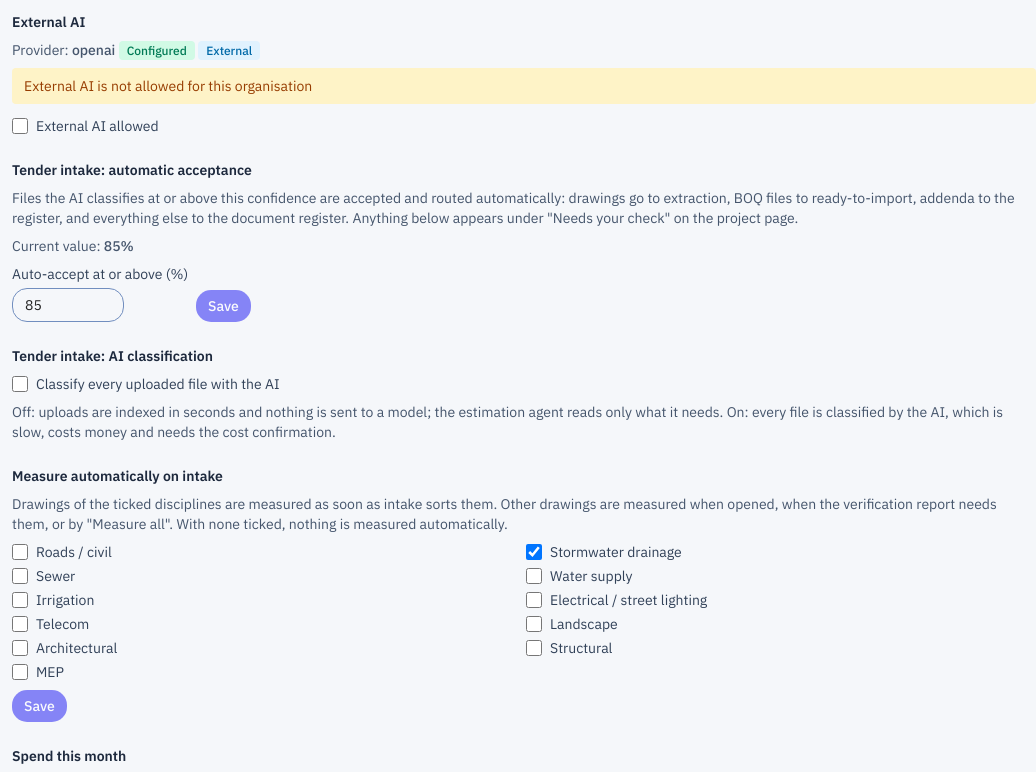
it: AiAdmin › intake auto-accept › shows server errors
Replace the text in the number field labelled "Auto-accept at or above (%)" with "95" at point(68, 305), box [12, 288, 124, 322]
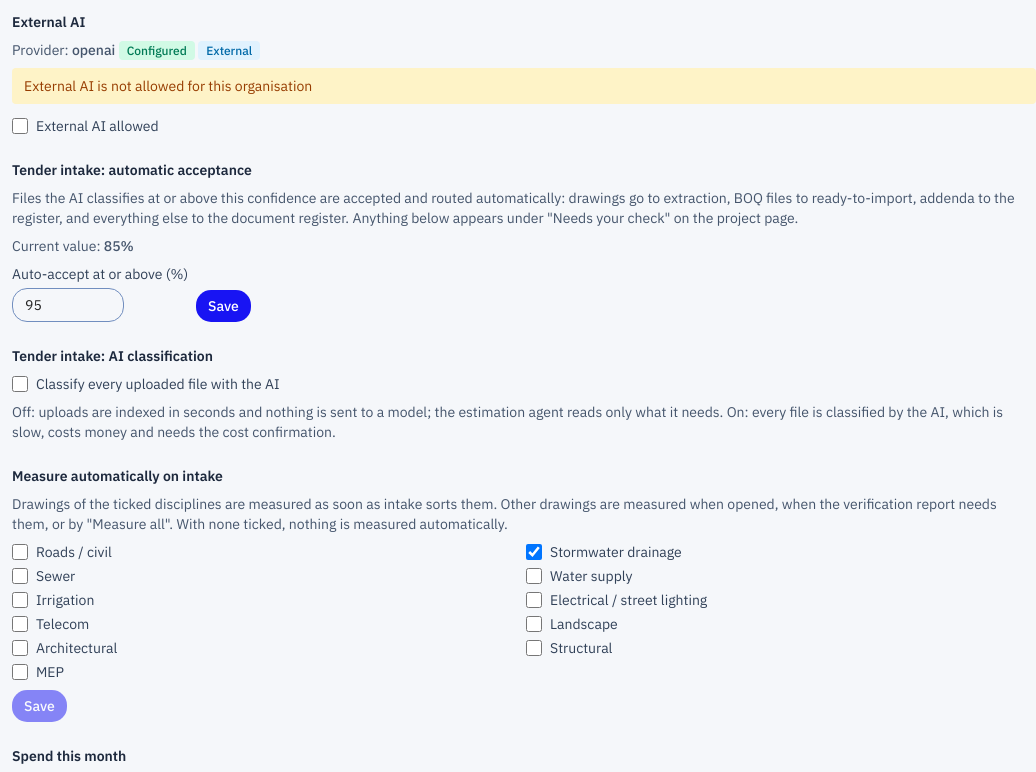
Click the button "Save" below "Auto-accept at or above (%)" at point(224, 306), box [196, 290, 251, 322]
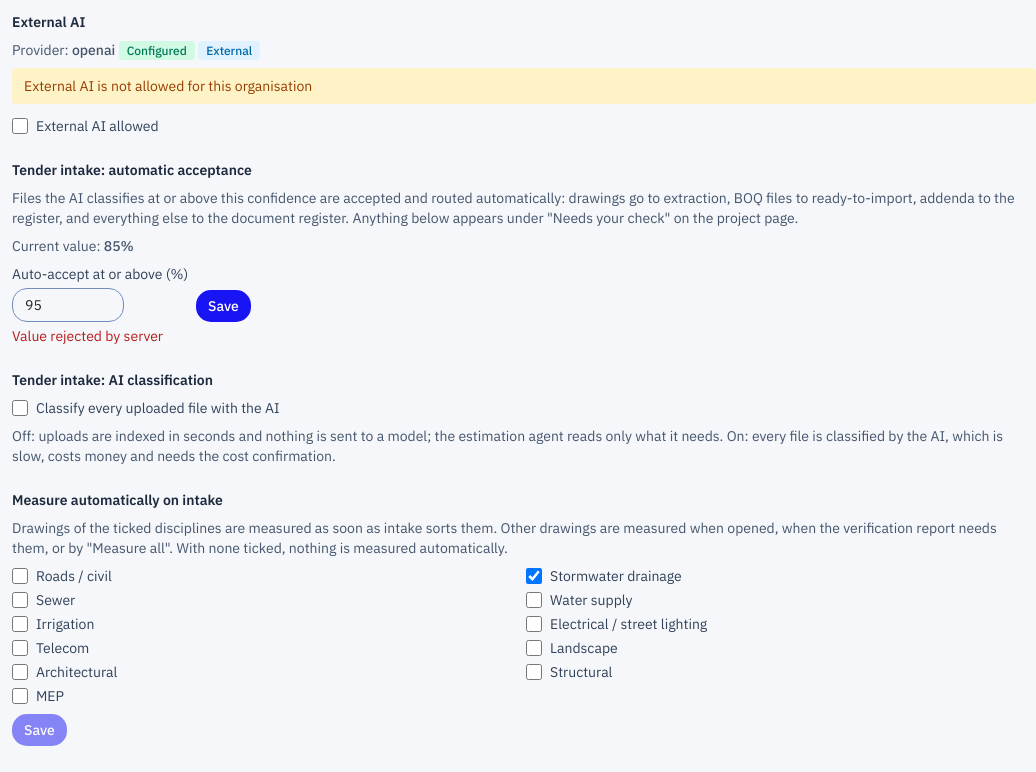
Result: the message "Value rejected by server" is shown at [12, 327, 163, 345]
